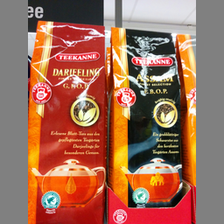tea: (28, 20, 110, 223), (109, 26, 182, 208)
